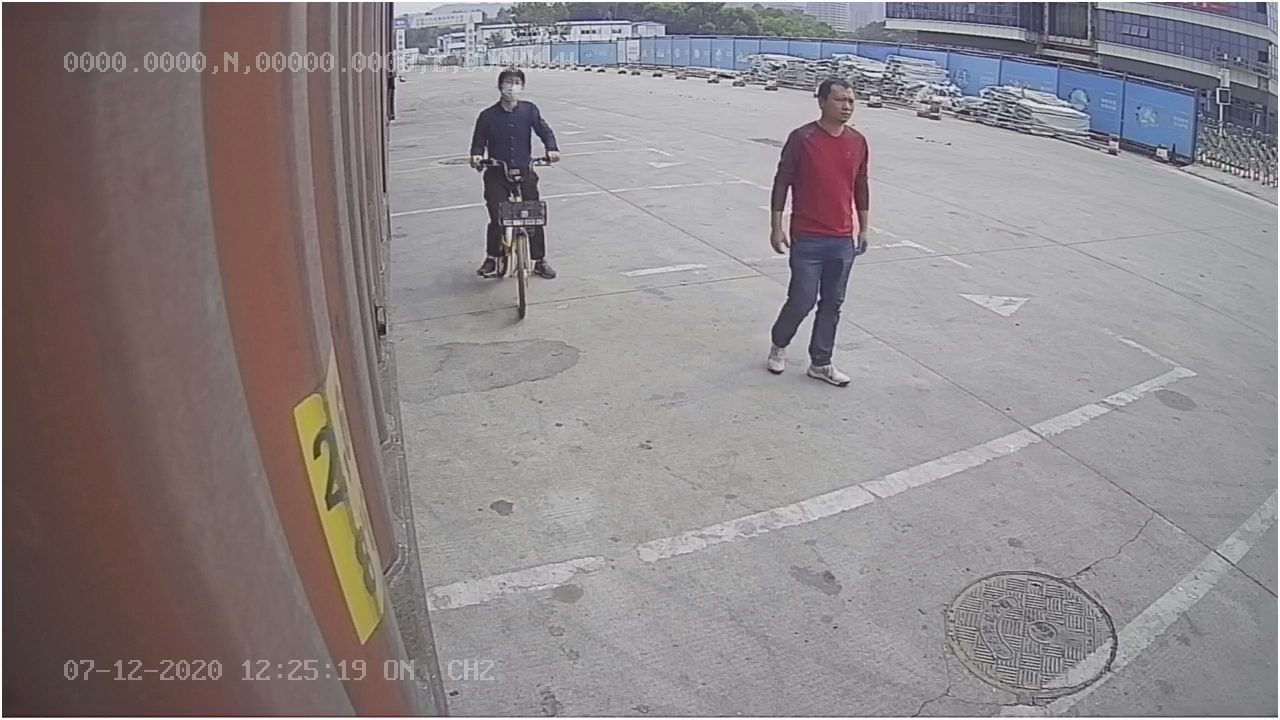person: (757, 75, 875, 391)
